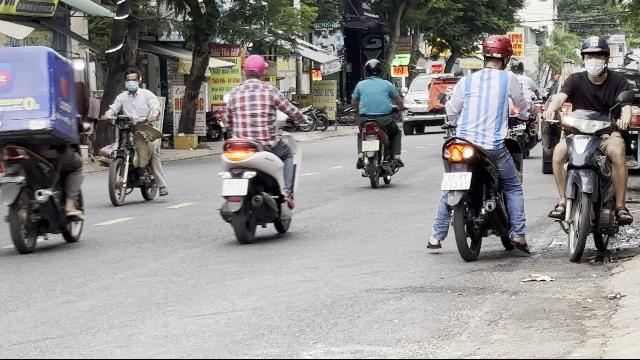helmet: (578, 36, 612, 74), (479, 34, 513, 70), (362, 58, 383, 78)
licenseplate: (441, 172, 471, 190), (222, 180, 248, 196), (362, 140, 378, 152)
motorcyclist: (430, 34, 532, 262), (542, 34, 638, 260), (0, 21, 90, 253), (215, 53, 301, 243), (100, 67, 168, 206), (350, 58, 406, 187)
nohelmet: (240, 54, 268, 82), (123, 68, 141, 92)
